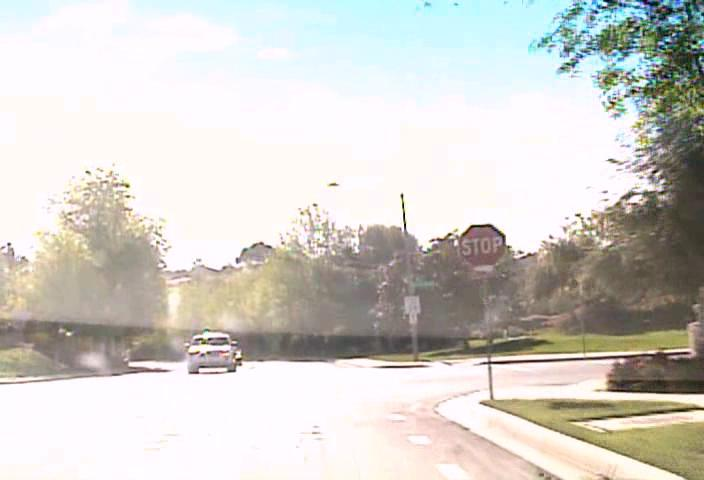stop: (458, 223, 506, 267)
